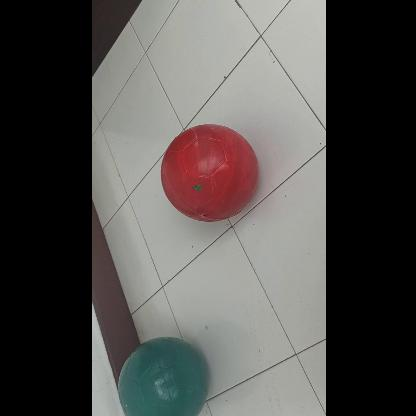red_ball: (157, 122, 257, 222)
